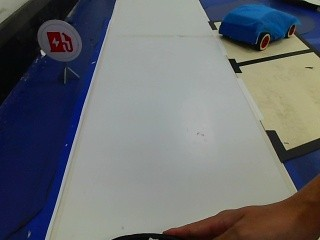battery: (34, 19, 83, 68)
car: (216, 3, 296, 51)
